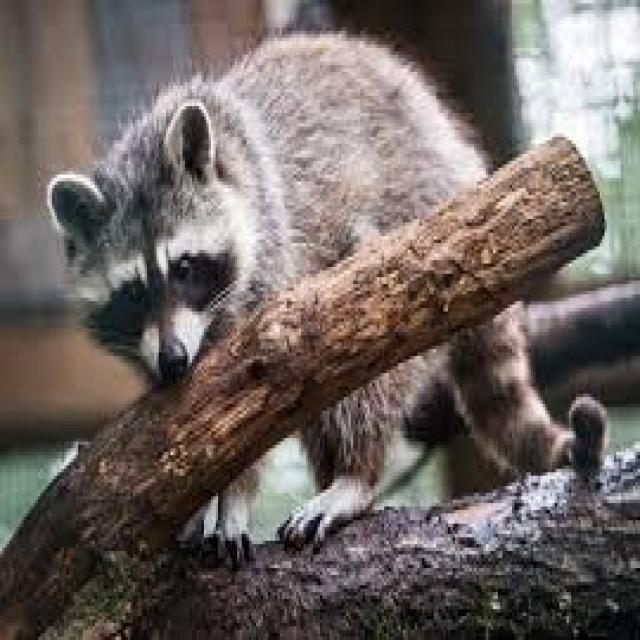Raccoon: (56, 31, 592, 493)
